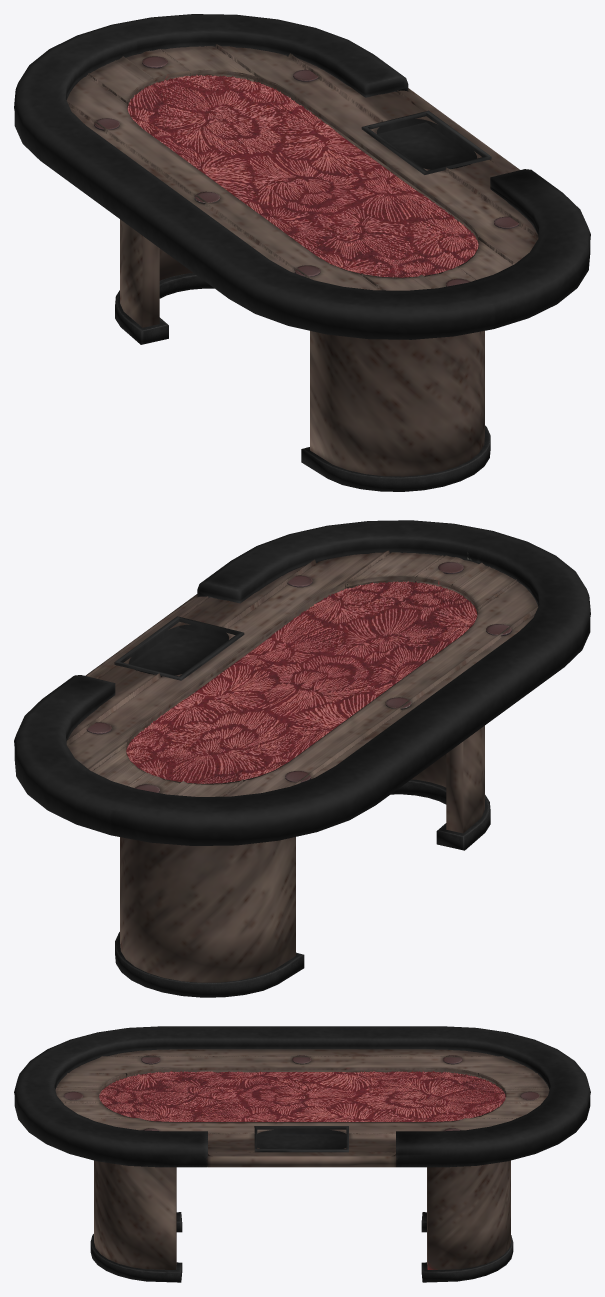
File: tabletable.glb
3 renders of one model, top to bottom at view 1: azimuth 30°, elevation 25°; view 2: azimuth 150°, elevation 25°; view 3: azimuth 270°, elevation 25°, orthographic. The views are drawn at different scales.
Visible parts, largest first — view 1: tabletop_low_Mesh.010, tabletop_low_Mesh.012, tabletop_low_Mesh.007, tabletop_low_Mesh.029, tabletop_low_Mesh.003, tabletop_low_Mesh.011, tabletop_low_Mesh.043, tabletop_low_Mesh.004, tabletop_low_Mesh.018, tabletop_low_Mesh.027, tabletop_low_Mesh.032, tabletop_low_Mesh.002 (+7 smaller); view 2: tabletop_low_Mesh.010, tabletop_low_Mesh.012, tabletop_low_Mesh.007, tabletop_low_Mesh.027, tabletop_low_Mesh.003, tabletop_low_Mesh.014, tabletop_low_Mesh.037, tabletop_low_Mesh.001, tabletop_low_Mesh.018, tabletop_low_Mesh.029, tabletop_low_Mesh.002, tabletop_low_Mesh.031 (+7 smaller); view 3: tabletop_low_Mesh.010, tabletop_low_Mesh.012, tabletop_low_Mesh.007, tabletop_low_Mesh.027, tabletop_low_Mesh.029, tabletop_low_Mesh.013, tabletop_low_Mesh.001, tabletop_low_Mesh.004, tabletop_low_Mesh.006, tabletop_low_Mesh.002, tabletop_low_Mesh.015, tabletop_low_Mesh.018 (+7 smaller).
Boxes of the visible parts, left/top/right/bottom form: tabletop_low_Mesh.010: left=127, top=74, right=478, bottom=277; tabletop_low_Mesh.012: left=16, top=14, right=588, bottom=314; tabletop_low_Mesh.007: left=66, top=44, right=538, bottom=290; tabletop_low_Mesh.029: left=310, top=331, right=484, bottom=476; tabletop_low_Mesh.003: left=14, top=84, right=494, bottom=339; tabletop_low_Mesh.011: left=137, top=33, right=365, bottom=97; tabletop_low_Mesh.043: left=301, top=438, right=490, bottom=491; tabletop_low_Mesh.004: left=493, top=228, right=590, bottom=328; tabletop_low_Mesh.018: left=377, top=122, right=475, bottom=169; tabletop_low_Mesh.027: left=120, top=104, right=142, bottom=327; tabletop_low_Mesh.032: left=142, top=236, right=159, bottom=327; tabletop_low_Mesh.002: left=66, top=45, right=537, bottom=241; tabletop_low_Mesh.010: left=126, top=581, right=477, bottom=783; tabletop_low_Mesh.012: left=16, top=520, right=588, bottom=820; tabletop_low_Mesh.007: left=66, top=550, right=537, bottom=796; tabletop_low_Mesh.027: left=120, top=837, right=295, bottom=982; tabletop_low_Mesh.003: left=110, top=590, right=590, bottom=845; tabletop_low_Mesh.014: left=240, top=539, right=467, bottom=603; tabletop_low_Mesh.037: left=115, top=942, right=304, bottom=997; tabletop_low_Mesh.001: left=14, top=734, right=111, bottom=835; tabletop_low_Mesh.018: left=130, top=628, right=228, bottom=675; tabletop_low_Mesh.029: left=463, top=610, right=484, bottom=832; tabletop_low_Mesh.002: left=67, top=551, right=538, bottom=748; tabletop_low_Mesh.031: left=446, top=741, right=463, bottom=833; tabletop_low_Mesh.010: left=99, top=1071, right=505, bottom=1121; tabletop_low_Mesh.012: left=16, top=1026, right=588, bottom=1147; tabletop_low_Mesh.007: left=55, top=1049, right=549, bottom=1156; tabletop_low_Mesh.027: left=427, top=1095, right=510, bottom=1269; tabletop_low_Mesh.029: left=94, top=1095, right=175, bottom=1269; tabletop_low_Mesh.013: left=54, top=1039, right=550, bottom=1089; tabletop_low_Mesh.001: left=396, top=1088, right=590, bottom=1167; tabletop_low_Mesh.004: left=14, top=1088, right=207, bottom=1167; tabletop_low_Mesh.006: left=208, top=1156, right=395, bottom=1167; tabletop_low_Mesh.002: left=55, top=1048, right=549, bottom=1094; tabletop_low_Mesh.015: left=98, top=1067, right=506, bottom=1095; tabletop_low_Mesh.018: left=257, top=1134, right=346, bottom=1148.
Size of the model in its own units: 2.2 by 1.38 by 4.34.
2 materials, 2 textured.
